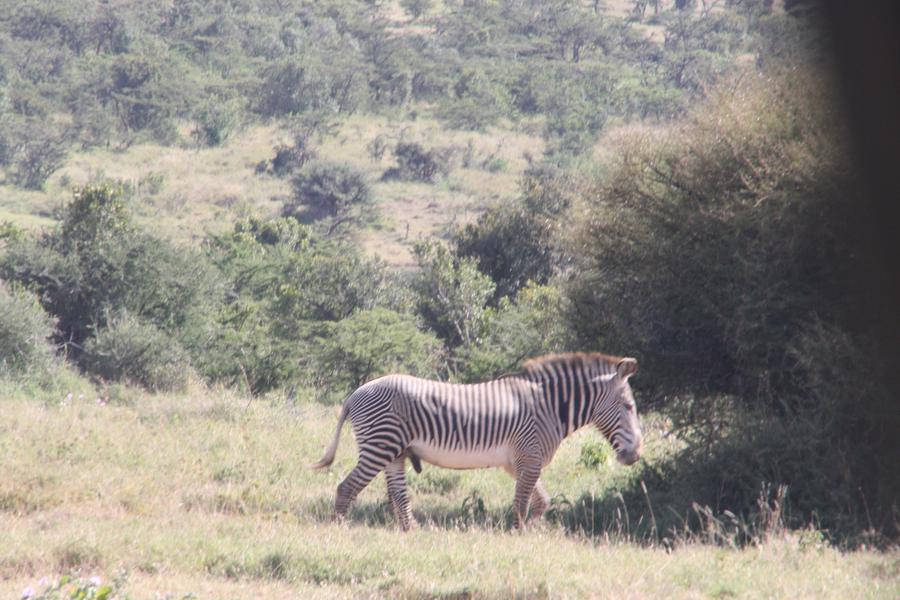zebra_grevys: (353, 376, 549, 464)
